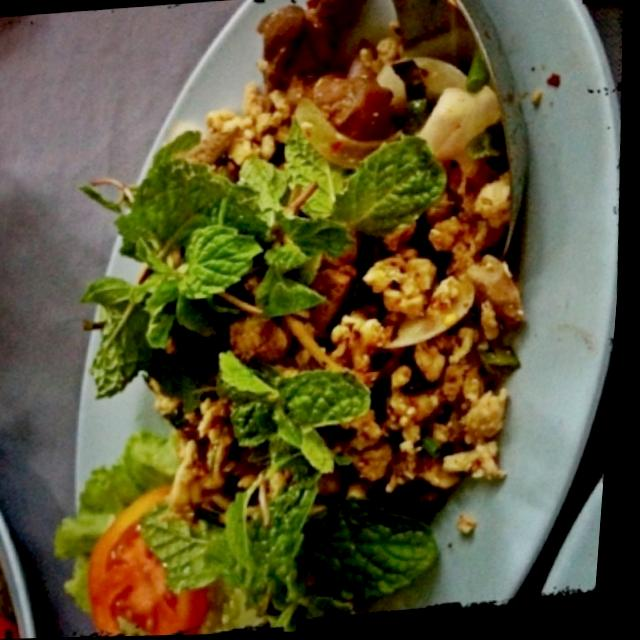鸡肉料理 含炸鸡: (0, 0, 627, 628)
